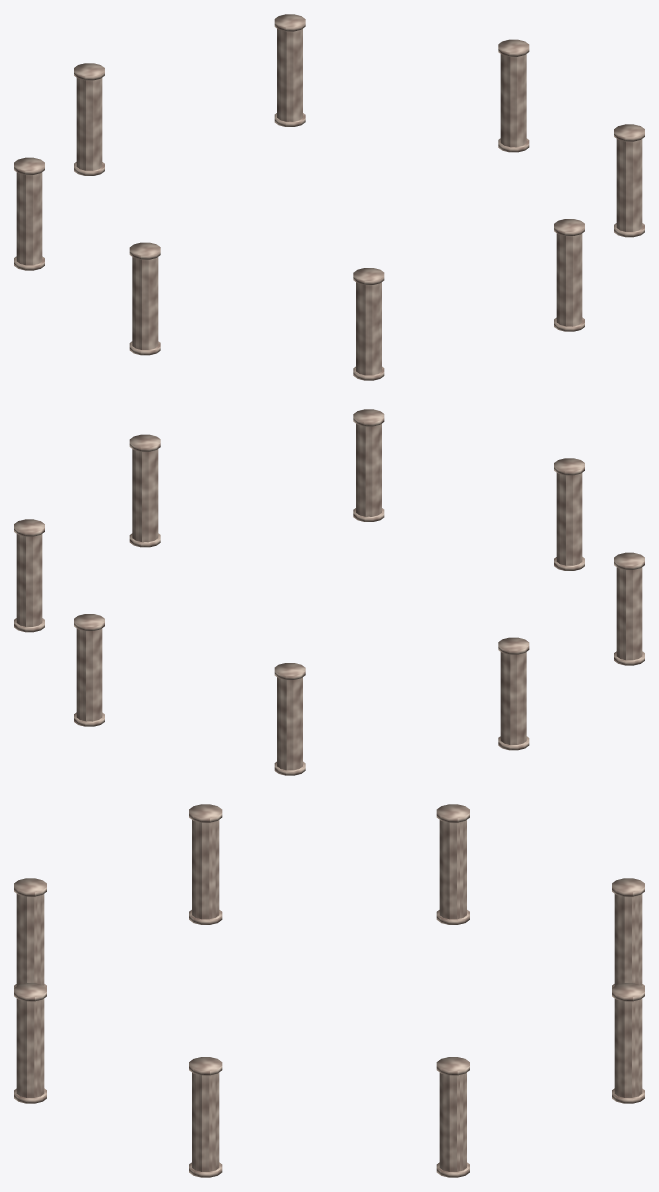
The model's file is Pillars.fbx.
The picture shows the model from 3 angles, top to bottom: view 1: azimuth 30°, elevation 25°; view 2: azimuth 150°, elevation 25°; view 3: azimuth 270°, elevation 25°; orthographic projection. The views are drawn at different scales.
Parts seen in each view (by area): view 1: Pillar4, Pillar8, Pillar1, Pillar5, Pillar2, Pillar6, Pillar3, Pillar7; view 2: Pillar1, Pillar5, Pillar4, Pillar8, Pillar3, Pillar7, Pillar2, Pillar6; view 3: Pillar2, Pillar7, Pillar1, Pillar4, Pillar5, Pillar8, Pillar3, Pillar6.
Boxes of the visible parts, x1,y1,x2,y2 form: Pillar4: (129,242,160,355); Pillar8: (498,39,529,152); Pillar1: (614,124,644,237); Pillar5: (14,157,44,270); Pillar2: (554,219,584,331); Pillar6: (74,63,104,175); Pillar3: (353,268,384,380); Pillar7: (274,14,305,126); Pillar1: (129,434,160,547); Pillar5: (498,637,529,750); Pillar4: (614,552,644,665); Pillar8: (14,519,44,632); Pillar3: (554,458,584,570); Pillar7: (74,614,104,726); Pillar2: (353,409,384,521); Pillar6: (274,663,305,775); Pillar2: (14,983,46,1103); Pillar7: (612,983,644,1103); Pillar1: (189,1057,222,1177); Pillar4: (189,804,222,924); Pillar5: (436,804,469,924); Pillar8: (436,1057,469,1177); Pillar3: (14,878,46,987); Pillar6: (612,878,644,987).
Size of the model in its own units: 2955 by 551 by 2955.
